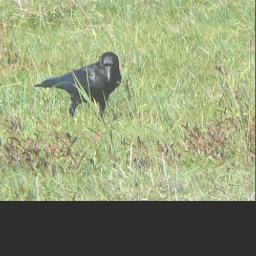Crow: (32, 52, 122, 122)
